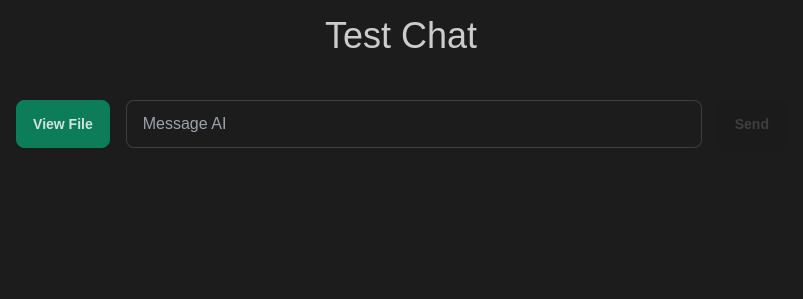
Test: ChattingContainer › sends a message and receives AI response
Check: the heading "Test Chat" is shown, box left=325, top=16, right=477, bottom=56
Type a message in the input
In the field with placeholder "Message AI": coordinates (414, 124) left=126, top=100, right=702, bottom=148, type "Hello AI"
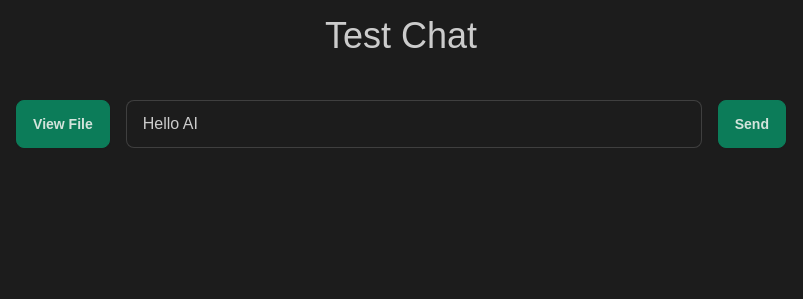
Click the Send button
Click the button "Send": coordinates (752, 124) left=718, top=100, right=786, bottom=148
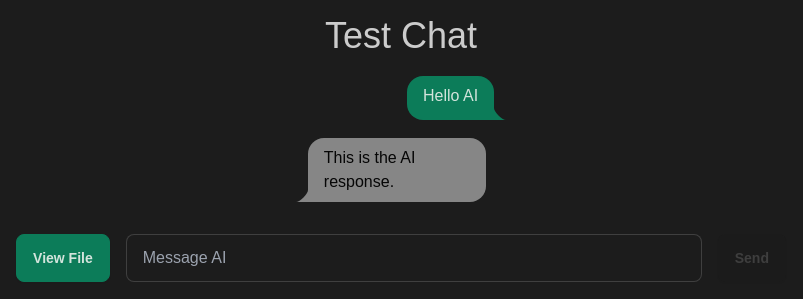
Check: the text "Hello AI" is shown, box left=407, top=76, right=494, bottom=120
Check: the text "This is the AI response." is shown, box left=324, top=149, right=415, bottom=190
